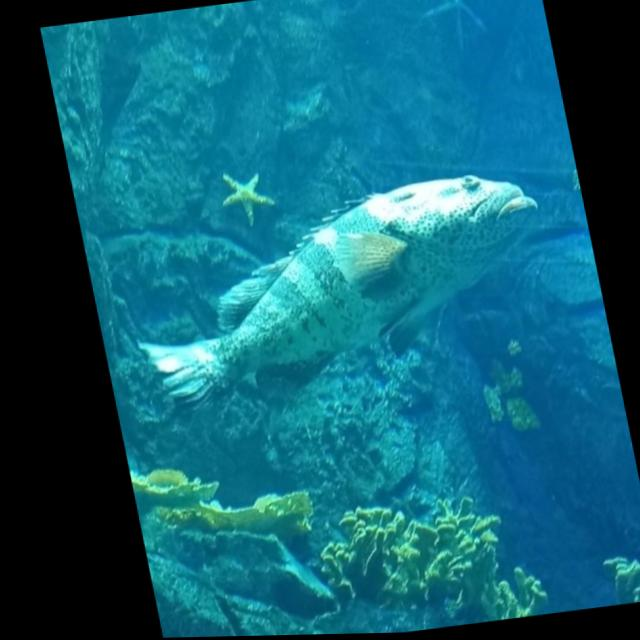Groupers: (108, 165, 576, 410)
